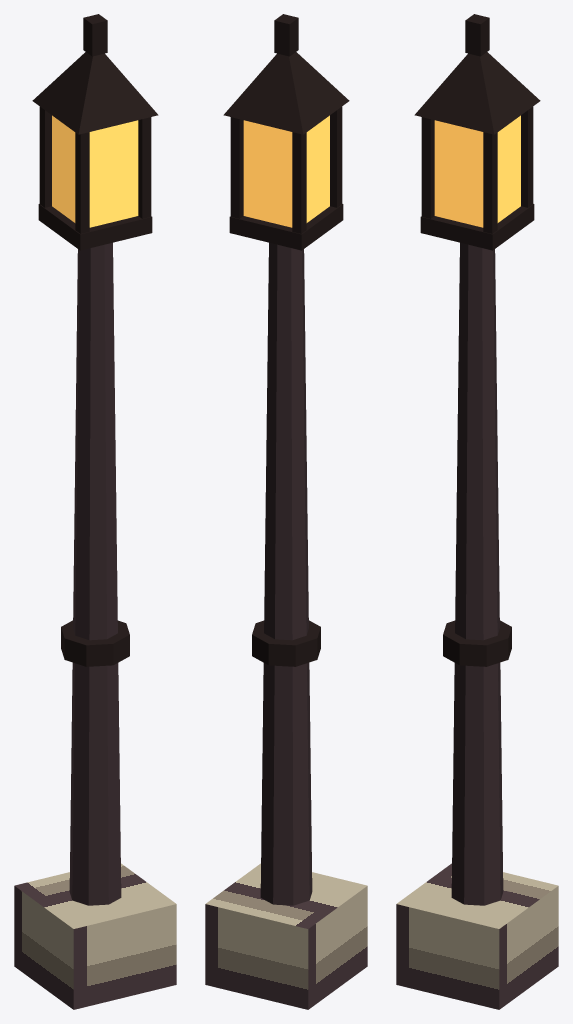
File: lamp_post.glb
3 views of the same model, side by side, from view 1: azimuth 30°, elevation 25°; view 2: azimuth 150°, elevation 25°; view 3: azimuth 330°, elevation 25° (orthographic).
Parts seen in each view (by area): view 1: lamp_post; view 2: lamp_post; view 3: lamp_post.
Part boxes in pixels (x1=…): lamp_post: x1=14, y1=14, x2=176, y2=1009; lamp_post: x1=205, y1=14, x2=367, y2=1009; lamp_post: x1=396, y1=14, x2=558, y2=1009.
Bounding box in the file's own units: 0.4 × 3.55 × 0.4.
Materials: 3 (1 with a texture image).
